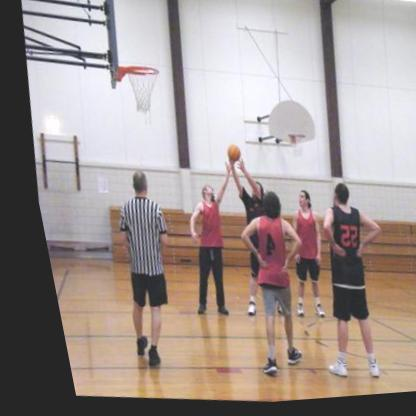basketball: (217, 145, 236, 166)
rim: (120, 64, 156, 80)
